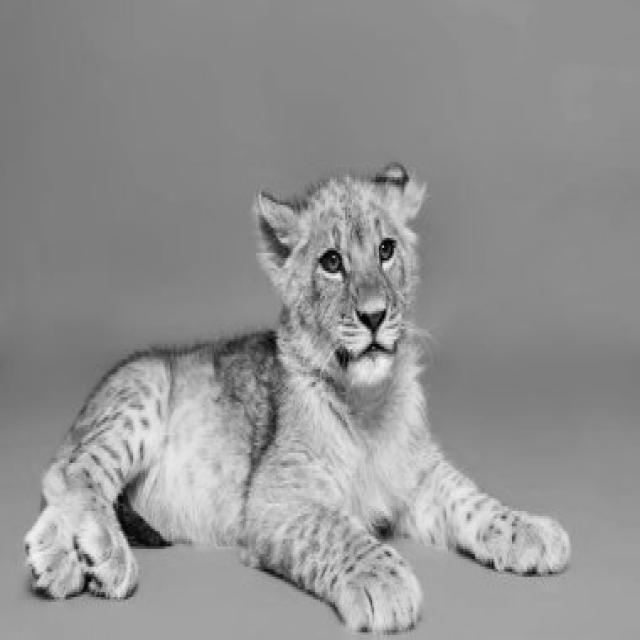Animal: (34, 154, 584, 596)
